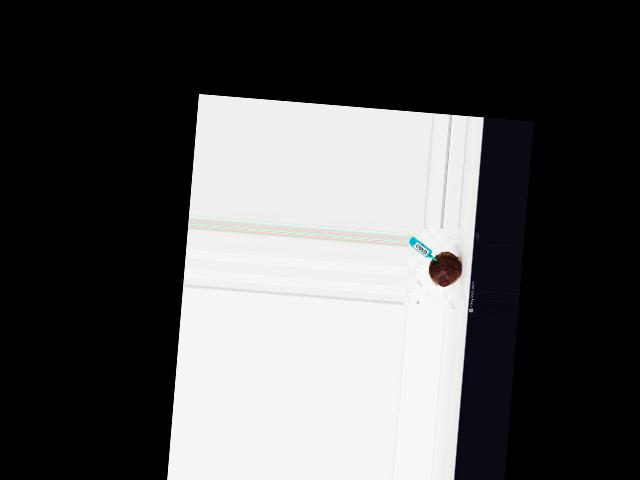beet: (427, 250, 463, 287)
